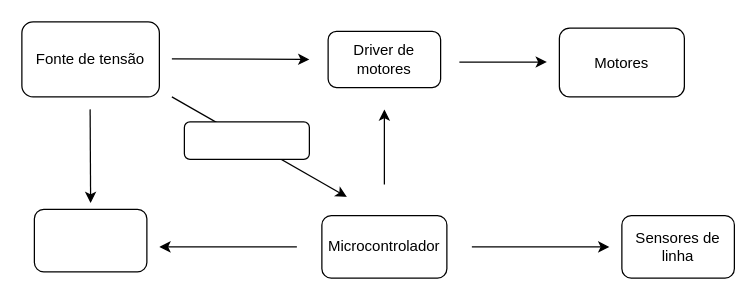
This 756x300 diagram has some shape labels left out. Each missing label, with the box of its shape:
Eletroíman: (33, 208, 147, 272)
Regulador de tensão: (183, 121, 309, 159)
